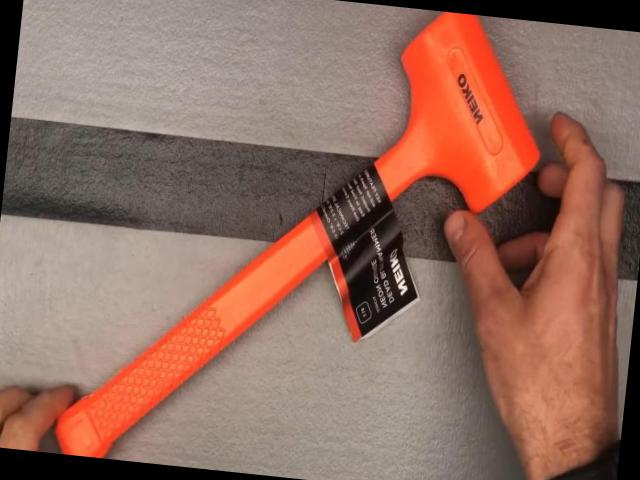hammer: (50, 0, 554, 480)
